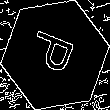P_E: (27, 29, 83, 81)
